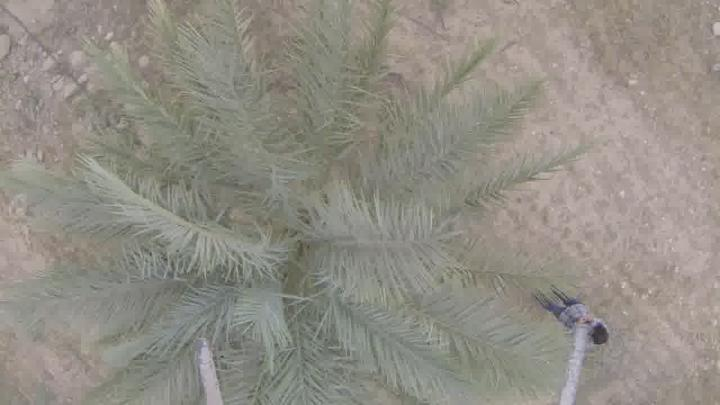Date-Palm-Crown: (131, 88, 455, 404)
